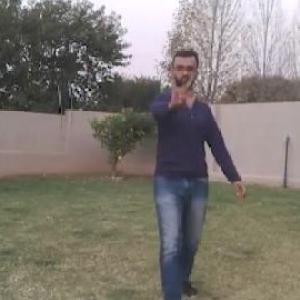takeoff-hand: (160, 72, 197, 110)
